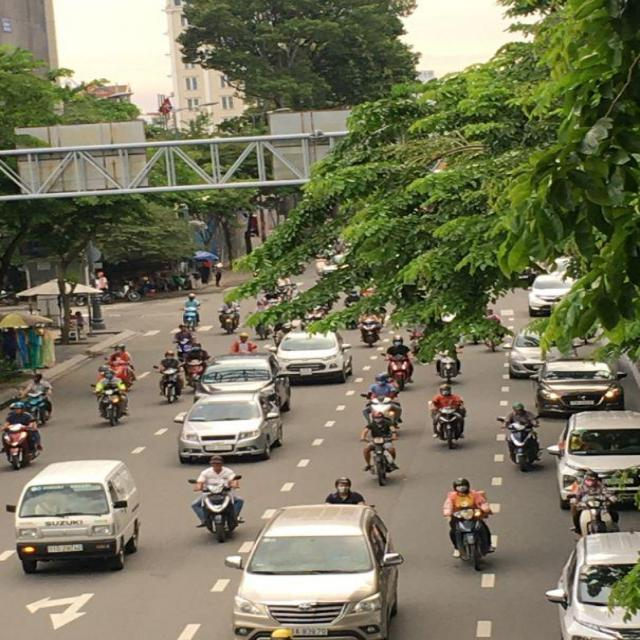car: (228, 504, 408, 638), (14, 460, 143, 576), (545, 516, 640, 639), (550, 411, 640, 510), (178, 394, 286, 465), (533, 358, 627, 420), (272, 332, 352, 388), (526, 276, 573, 318), (508, 328, 546, 379)
motorcycle: (448, 487, 495, 567), (192, 482, 244, 542), (571, 475, 620, 535), (503, 406, 543, 471), (364, 420, 401, 484), (2, 421, 43, 469), (94, 378, 129, 428), (430, 402, 466, 447), (156, 354, 183, 403), (23, 390, 54, 425)
